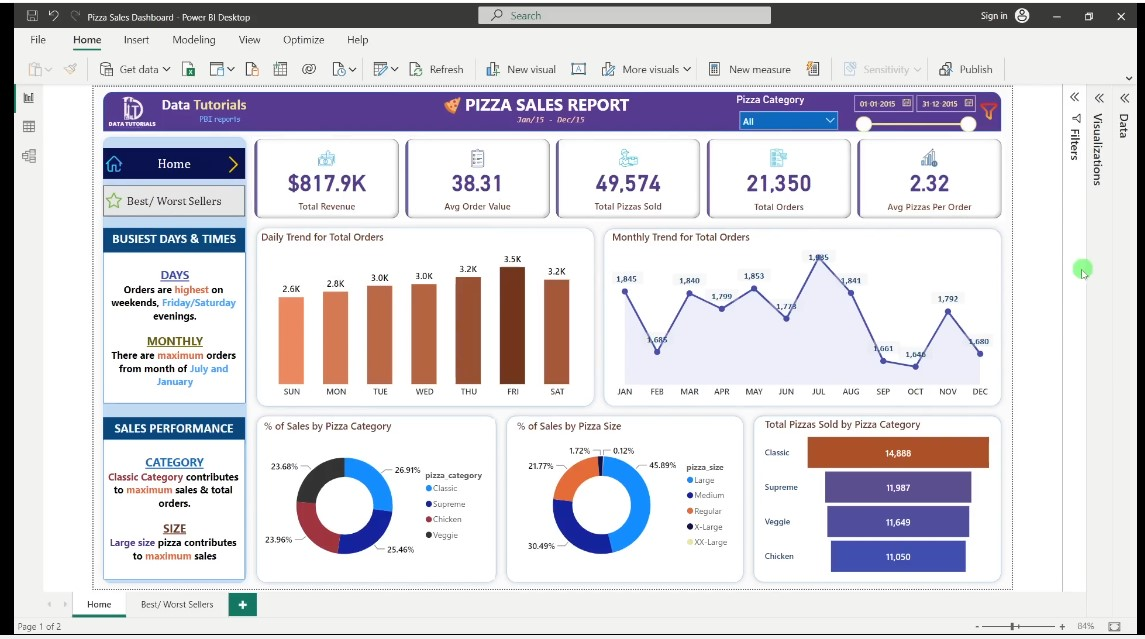

Layout of this report page (visuals, bound fields, positions):
{"tool":"powerbi","page":{"name":"Home","canvas":[1500,820],"ordinal":0},"visuals":[{"type":"cardVisual","fields":{"Data":["pizza_sales.Total Revenue","pizza_sales.AVG Order Value","pizza_sales.Total Pizza Sold","pizza_sales.Total Orders","pizza_sales.AVG Pizzas Per Order"]},"box":[337.7,93.4,1149.2,150.8],"z":0},{"type":"shape","box":[11.6,4.3,1475.4,88.4],"z":1000},{"type":"textbox","box":[578.3,0,343.3,63.3],"z":2000},{"type":"textbox","box":[683.3,48.3,133.3,45],"z":3000},{"type":"shape","box":[337.7,244.3,531.1,286.9],"z":4000},{"type":"columnChart","title":"Daily Trends for Total Orders","fields":{"Category":["pizza_sales.Order Day"],"Y":["pizza_sales.Total Orders"]},"box":[350.8,257.4,503.3,260.7],"z":5000},{"type":"shape","box":[868.9,244.3,618,286.9],"z":6000},{"type":"areaChart","title":"Monthly Trend for Total Orders","fields":{"Category":["pizza_sales.Order Month"],"Y":["pizza_sales.Total Orders"]},"box":[885.2,257.4,588.5,260.7],"z":7000},{"type":"shape","box":[337.7,531.1,385.2,288.5],"z":8000},{"type":"shape","box":[1103.3,531.1,385.2,288.5],"z":9000},{"type":"shape","box":[724.6,531.1,380.3,288.5],"z":10000},{"type":"shape","box":[11.7,93.3,326.7,726.7],"z":11000},{"type":"donutChart","title":"% Sales by Pizza Category","fields":{"Category":["pizza_sales.pizza_category"],"Y":["pizza_sales.Total Revenue"]},"box":[354.1,545.9,354.1,257.4],"z":12000},{"type":"donutChart","title":"% Sales by Pizza Size","fields":{"Y":["pizza_sales.Total Revenue"],"Category":["pizza_sales.pizza_size"]},"box":[734.4,542.6,357.4,277],"z":13000},{"type":"funnel","fields":{"Category":["pizza_sales.pizza_category"],"Y":["pizza_sales.Total Pizza Sold"]},"box":[1116.4,547.5,357.4,255.7],"z":14000},{"type":"textbox","box":[24.6,285.2,301.6,42.6],"z":15000},{"type":"textbox","box":[24.6,327.9,301.6,196.7],"z":16000},{"type":"textbox","box":[24.6,524.6,301.6,42.6],"z":17000},{"type":"textbox","box":[23,567.2,301.6,236.1],"z":18000},{"type":"slicer","title":"Pizza Category","fields":{"Values":["pizza_sales.pizza_category"]},"box":[995.7,7.2,204.3,72.5],"z":19000},{"type":"slicer","title":"Order Date","fields":{"Values":["pizza_sales.order_date"]},"box":[1213,0,227.5,92.8],"z":20000},{"type":"pageNavigator","box":[24.3,132.4,300,50],"z":20001},{"type":"pageNavigator","box":[23,194.6,300,50],"z":20002},{"type":"shape","box":[270,198.3,53.3,43.3],"z":20003},{"type":"shape","box":[26.7,131.7,48.3,48.3],"z":20004}]}

Visuals, with their boxes on the page's 1500x820 design canvas (x1, y1, x2, y2). These are canvas units, not pixel positions in the 1145x639 screenshot, which may show the page scaled, cropped or inside an application window:
cardVisual - pizza_sales.Total Revenue x pizza_sales.AVG Order Value: box(338, 93, 1487, 244)
shape: box(12, 4, 1487, 93)
textbox: box(578, 0, 922, 63)
textbox: box(683, 48, 817, 93)
shape: box(338, 244, 869, 531)
"Daily Trends for Total Orders" columnChart: box(351, 257, 854, 518)
shape: box(869, 244, 1487, 531)
"Monthly Trend for Total Orders" areaChart: box(885, 257, 1474, 518)
shape: box(338, 531, 723, 820)
shape: box(1103, 531, 1488, 820)
shape: box(725, 531, 1105, 820)
shape: box(12, 93, 338, 820)
"% Sales by Pizza Category" donutChart: box(354, 546, 708, 803)
"% Sales by Pizza Size" donutChart: box(734, 543, 1092, 820)
funnel - pizza_sales.pizza_category x pizza_sales.Total Pizza Sold: box(1116, 548, 1474, 803)
textbox: box(25, 285, 326, 328)
textbox: box(25, 328, 326, 525)
textbox: box(25, 525, 326, 567)
textbox: box(23, 567, 325, 803)
"Pizza Category" slicer: box(996, 7, 1200, 80)
"Order Date" slicer: box(1213, 0, 1440, 93)
pageNavigator: box(24, 132, 324, 182)
pageNavigator: box(23, 195, 323, 245)
shape: box(270, 198, 323, 242)
shape: box(27, 132, 75, 180)
